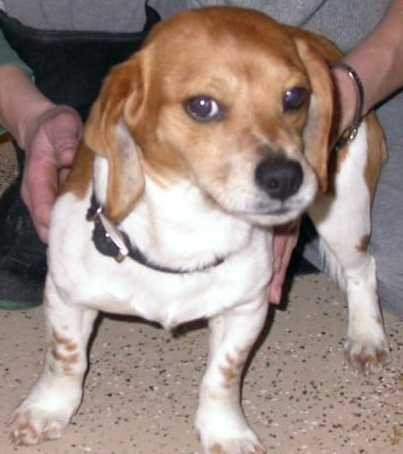Dog: (15, 7, 386, 453)
